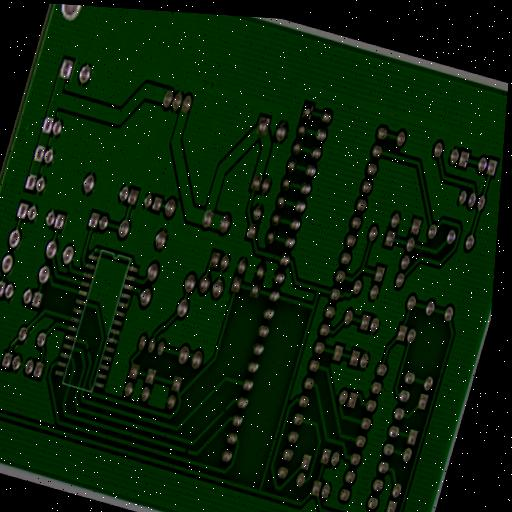open_circuit: (83, 342, 92, 356), (181, 445, 190, 456), (220, 405, 228, 416)
